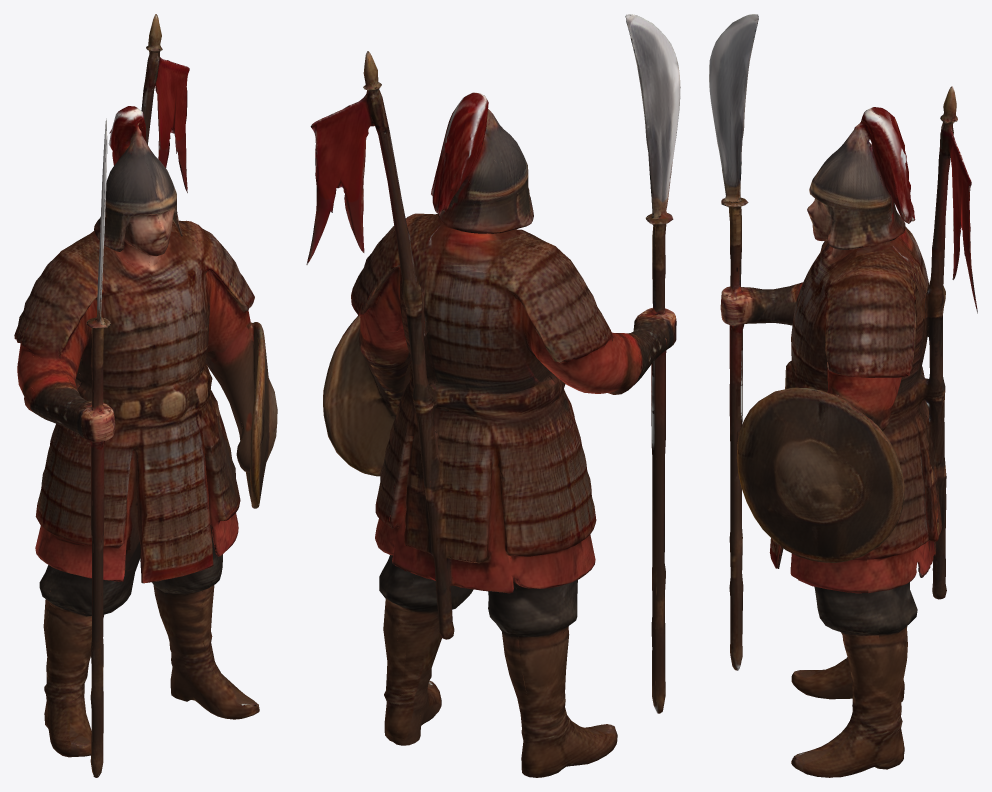
File: Vanguard.fbx
3 views of the same model, side by side, from view 1: azimuth 30°, elevation 25°; view 2: azimuth 150°, elevation 25°; view 3: azimuth 270°, elevation 25° (orthographic). The views are drawn at different scales.
Parts seen in each view (by area): view 1: Vanguard; view 2: Vanguard; view 3: Vanguard.
Part boxes in pixels (left/top/right/bottom): Vanguard: left=14, top=14, right=277, bottom=777; Vanguard: left=306, top=14, right=680, bottom=777; Vanguard: left=709, top=14, right=977, bottom=777.
Size of the model in its own units: 1.02 by 2.5 by 0.9005.
Materials: 1 (1 with a texture image).
